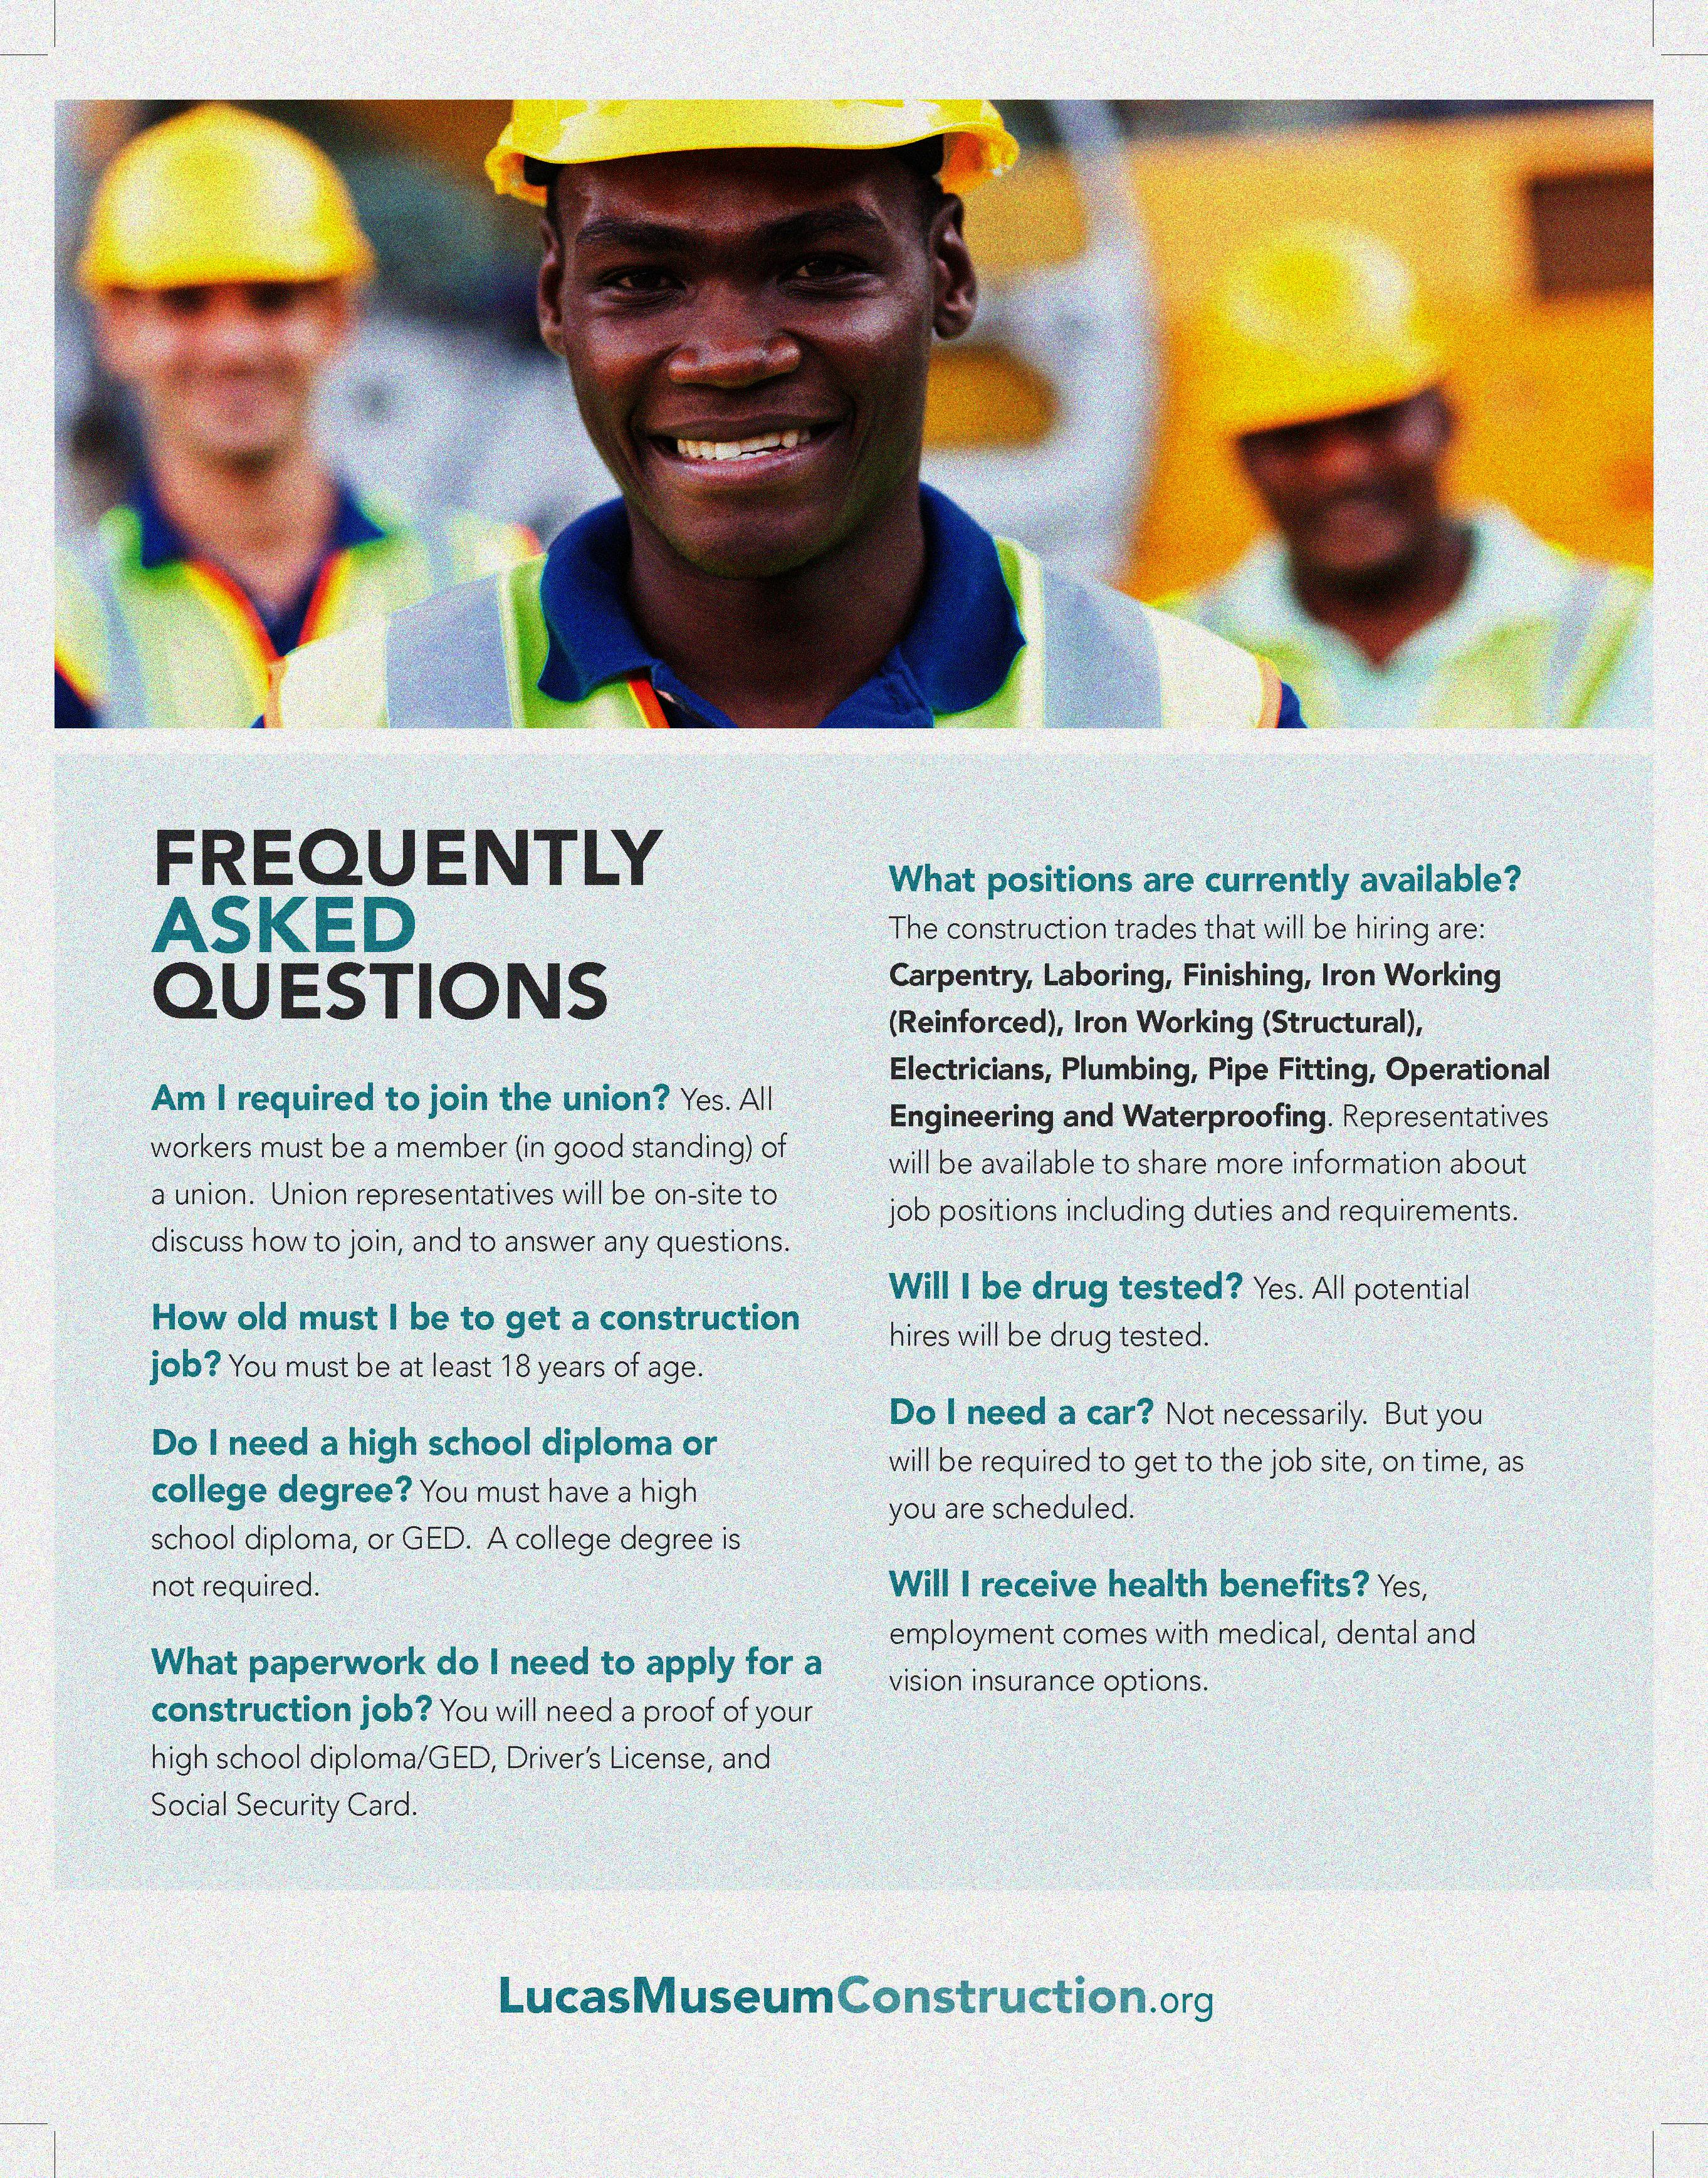helmet: (483, 92, 1026, 571), (1206, 216, 1473, 605), (72, 106, 391, 431)
